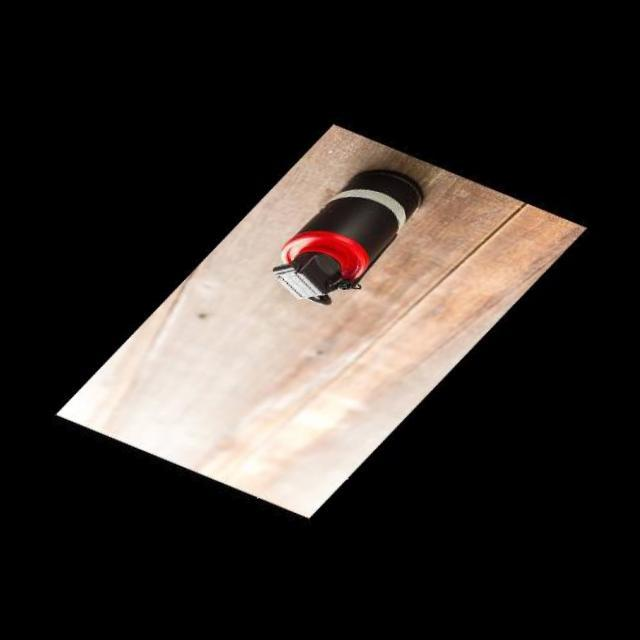grenade: (244, 147, 444, 314)
